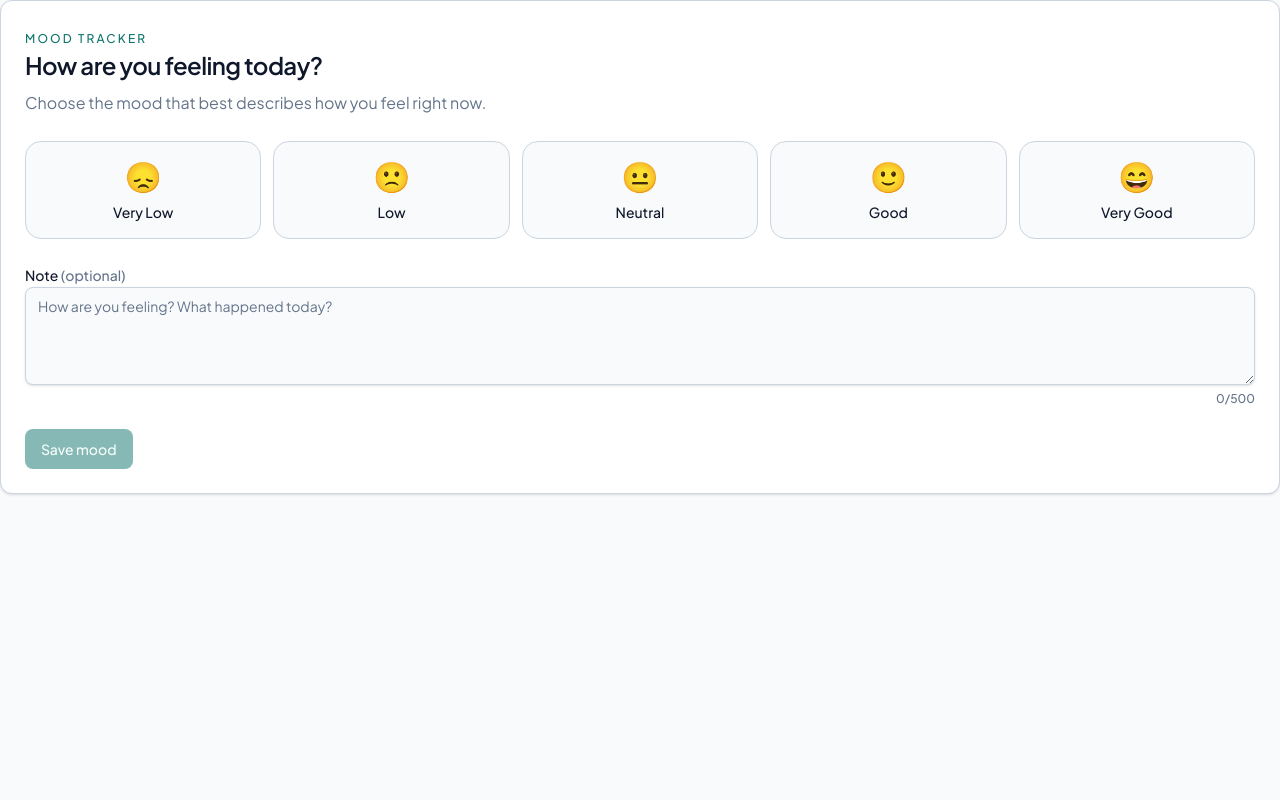
Test: MoodTracker › saves the selected mood and optional note
expect the button "Save mood" is disabled: met, box top-left (25, 429), bottom-right (132, 469)
Click the radio button labelled "🙂 Good". click: point(888, 190)
box: top-left (770, 141), bottom-right (1007, 239)
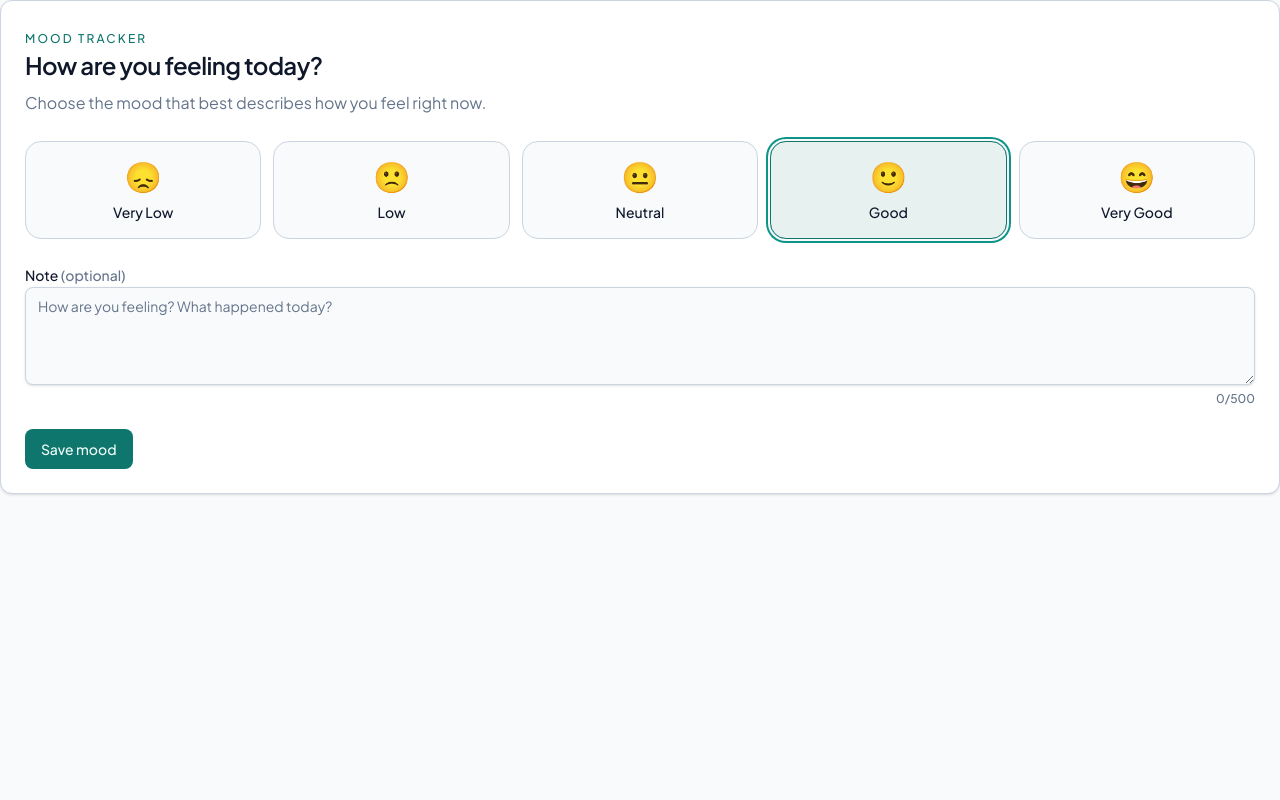
Type "Felt focused" into the text box labelled "Note (optional)". click: point(640, 336)
box: top-left (25, 287), bottom-right (1255, 385)
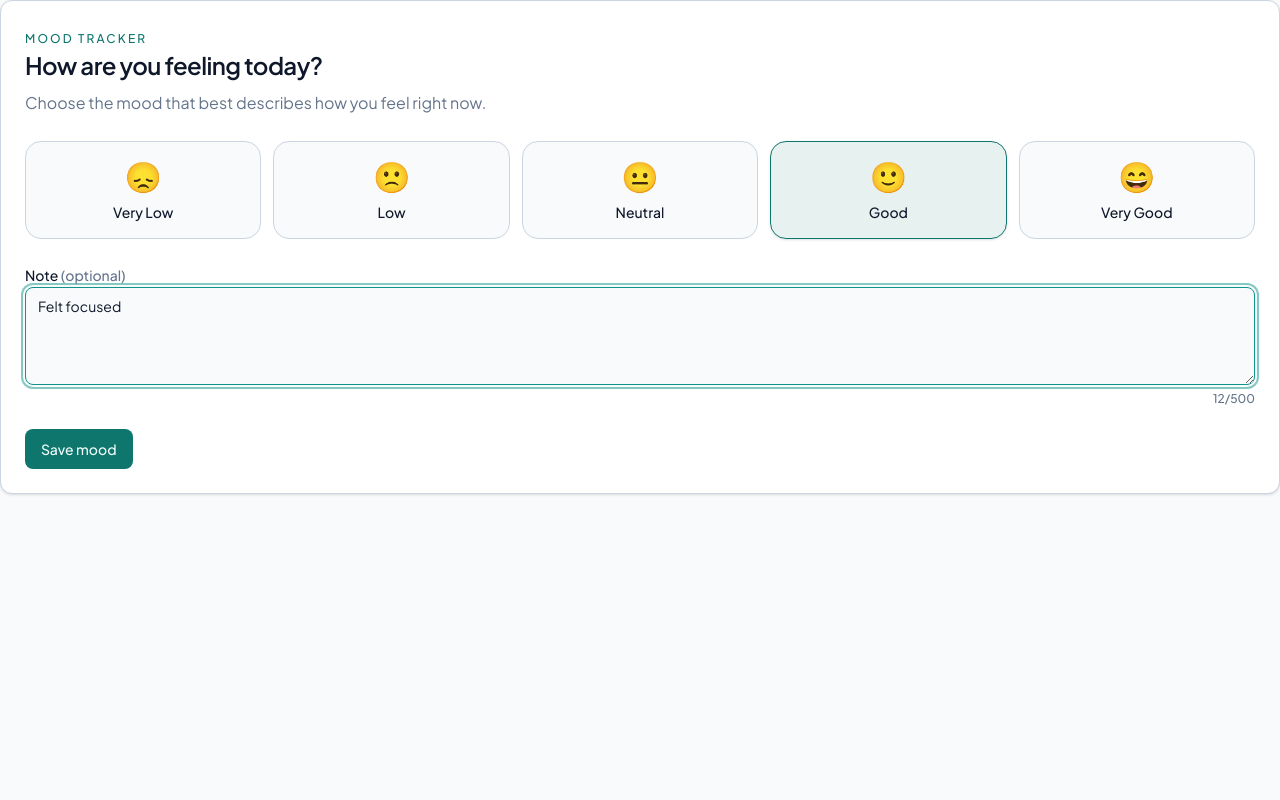
Click the button "Save mood". click: point(79, 449)
box: top-left (25, 429), bottom-right (132, 469)
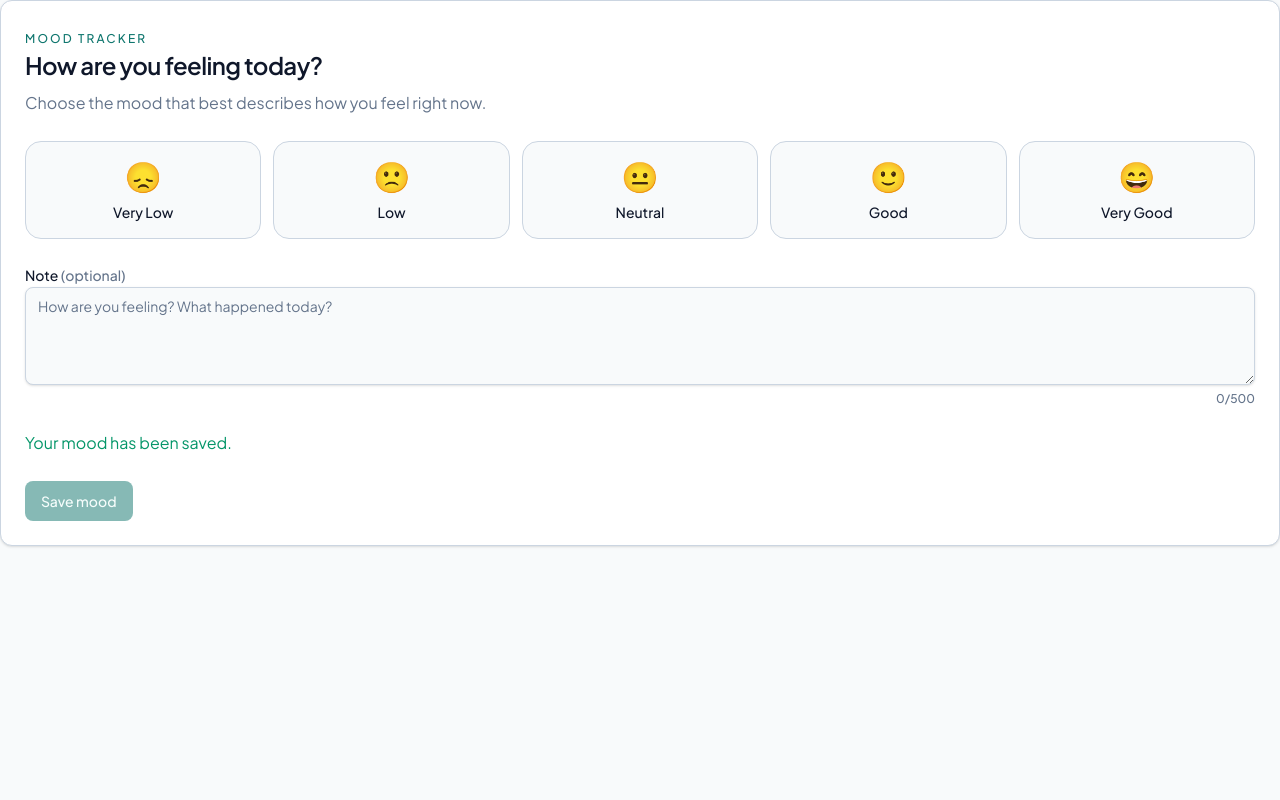
expect the message reads "Your mood has been saved.": met, box top-left (25, 432), bottom-right (232, 453)
expect the text box labelled "Note (optional)" is empty: met, box top-left (25, 287), bottom-right (1255, 385)
